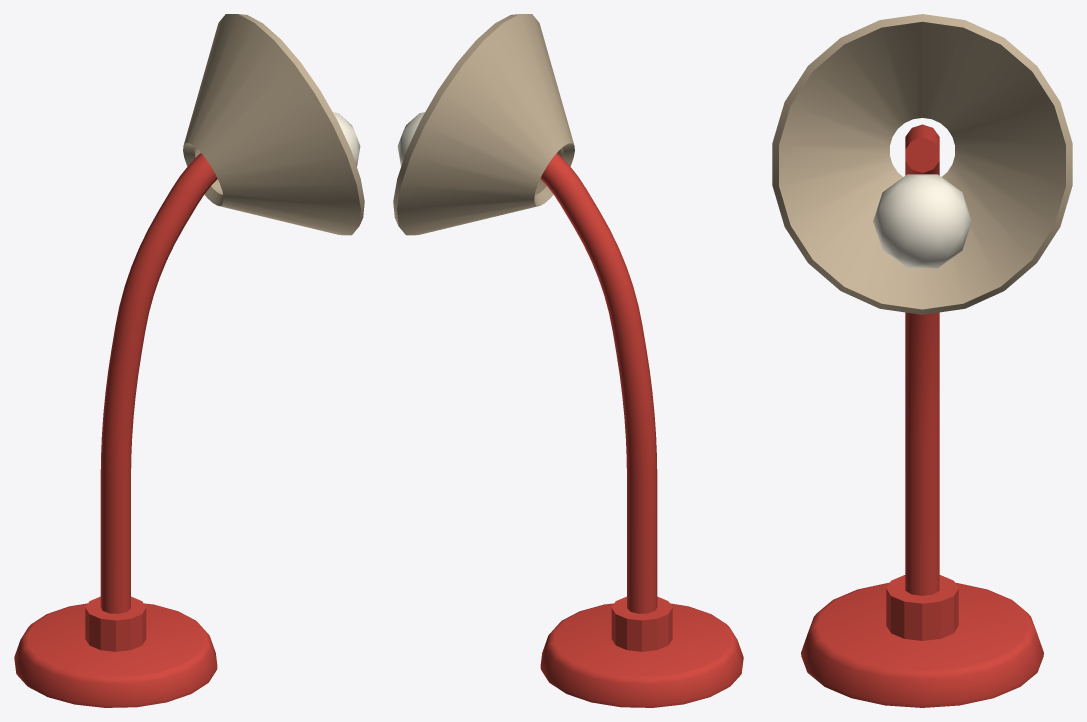
File: toy_lamp.fbx
3 views of the same model, side by side, from view 1: azimuth 30°, elevation 25°; view 2: azimuth 150°, elevation 25°; view 3: azimuth 270°, elevation 25° (orthographic). The views are drawn at different scales.
Visible parts, largest first — view 1: red_1, shadedesk_1; view 2: red_1, shadedesk_1; view 3: shadedesk_1, red_1, bulb_1.
Boxes of the visible parts, x1,y1,x2,y2 form: red_1: [14, 153, 217, 707]; shadedesk_1: [183, 14, 364, 235]; red_1: [540, 153, 743, 707]; shadedesk_1: [393, 14, 574, 235]; shadedesk_1: [772, 14, 1072, 314]; red_1: [801, 124, 1043, 707]; bulb_1: [873, 174, 971, 268].
Bounding box in the file's own units: 0.6536 × 1.17 × 0.4371.
